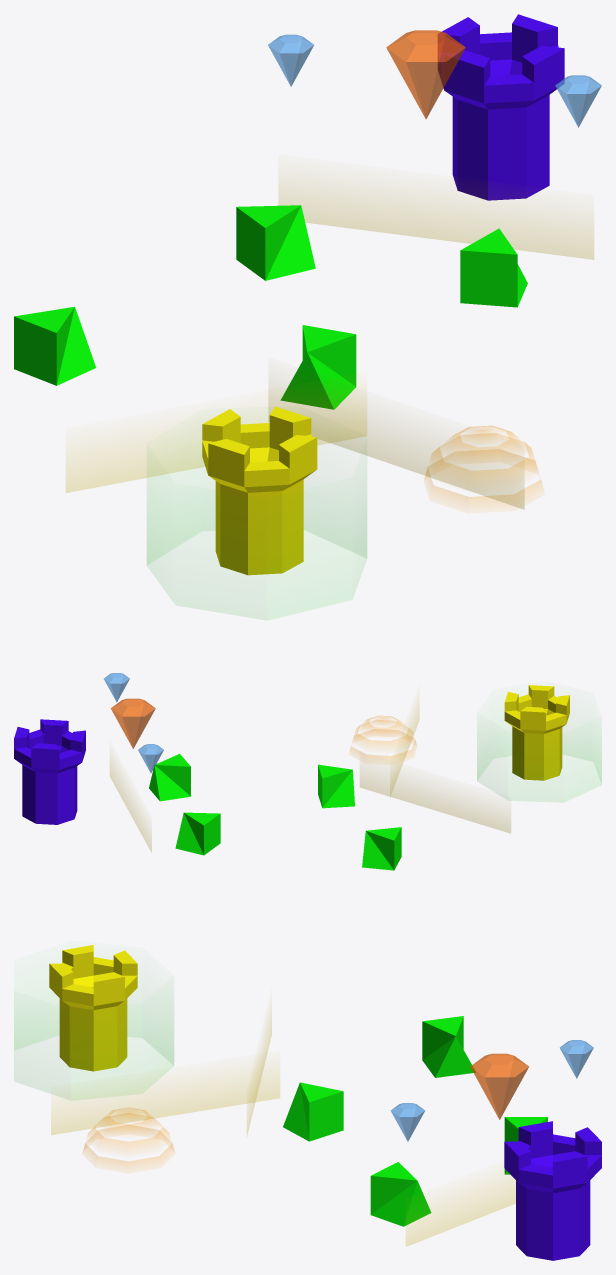
The model's file is mainMenuModel.glb.
The picture shows the model from 3 angles, top to bottom: view 1: azimuth 30°, elevation 25°; view 2: azimuth 150°, elevation 25°; view 3: azimuth 270°, elevation 25°; orthographic projection. The views are drawn at different scales.
Visible parts, largest first — view 1: Cylinder, Cylinder.001, Plane.001, Plane.002, Plane.003, Cube, Cube.003, Cube.002, Sphere, Cube.001, Cone, Cylinder.002 (+2 smaller); view 2: Cylinder, Cylinder.001, Plane.003, Cube, Cube.001, Cube.003, Cube.002, Sphere, Cone, Cylinder.002, Plane.001, Plane.002 (+2 smaller); view 3: Cylinder, Cylinder.001, Plane.002, Cube.001, Cube.002, Sphere, Cube.003, Plane.001, Cone, Cylinder.002, Cone.001, Cone.002 (+2 smaller).
Part boxes in pixels (x1,y1,x2,y2): Cylinder: (438,14,564,200); Cylinder.001: (202,406,317,575); Plane.001: (279,189,593,259); Plane.002: (269,394,524,508); Plane.003: (66,411,366,492); Cube: (236,205,315,280); Cube.003: (14,306,96,385); Cube.002: (280,325,356,409); Sphere: (424,426,542,506); Cube.001: (460,228,527,307); Cone: (386,30,465,119); Cylinder.002: (147,503,366,565); Cylinder: (14,719,85,824); Cylinder.001: (504,685,569,780); Plane.003: (360,771,510,832); Cube: (175,812,220,855); Cube.001: (149,754,190,801); Cube.003: (362,827,401,870); Cube.002: (318,764,354,808); Sphere: (350,716,416,760); Cone: (111,698,155,748); Cylinder.002: (477,743,601,784); Plane.001: (110,761,151,852); Plane.002: (390,706,419,796); Cylinder: (504,1121,601,1260); Cylinder.001: (49,945,137,1071); Plane.002: (51,1076,279,1134); Cube.001: (370,1162,431,1226); Cube.002: (283,1082,343,1141); Sphere: (83,1107,174,1168); Cube.003: (422,1016,475,1077); Plane.001: (406,1182,515,1246); Cone: (470,1053,529,1119); Cylinder.002: (14,1023,173,1065); Cone.001: (390,1103,425,1141); Cone.002: (559,1040,593,1078).
Size of what is drawn, in the model's own units: 12.95 by 3.95 by 12.56.
Materials: 8 (3 with a texture image).
